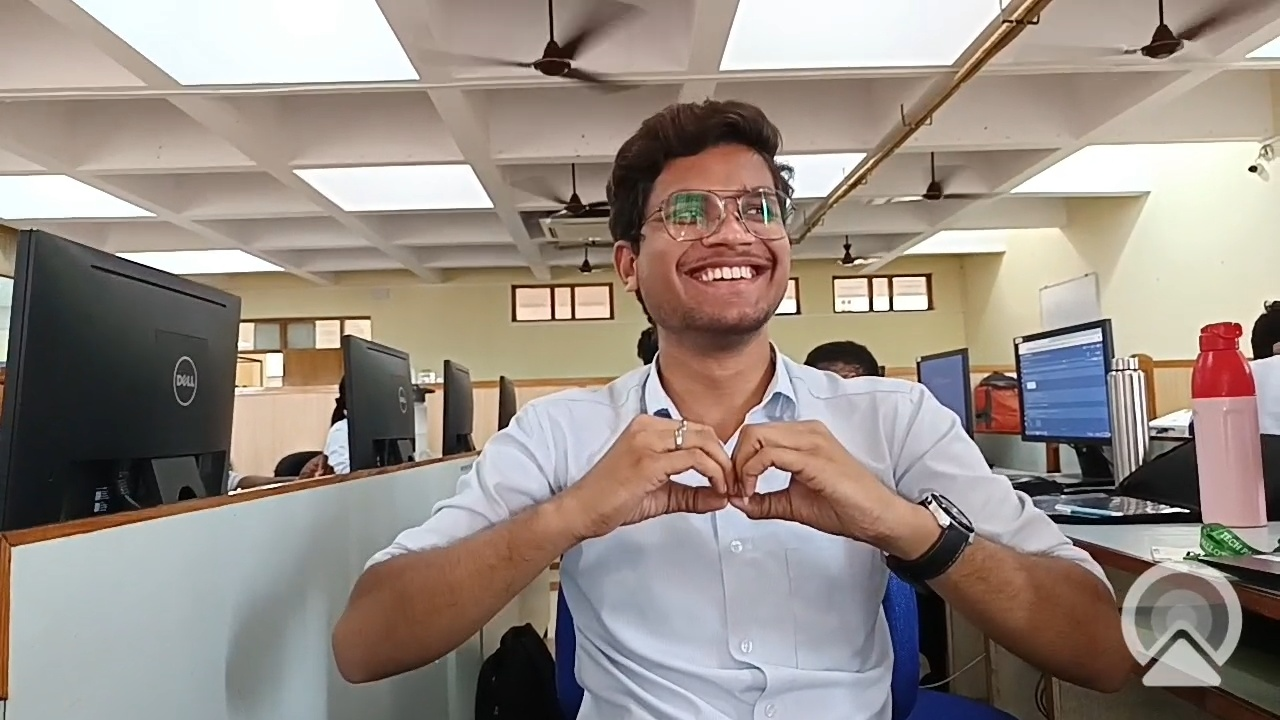B: (542, 355, 922, 602)
